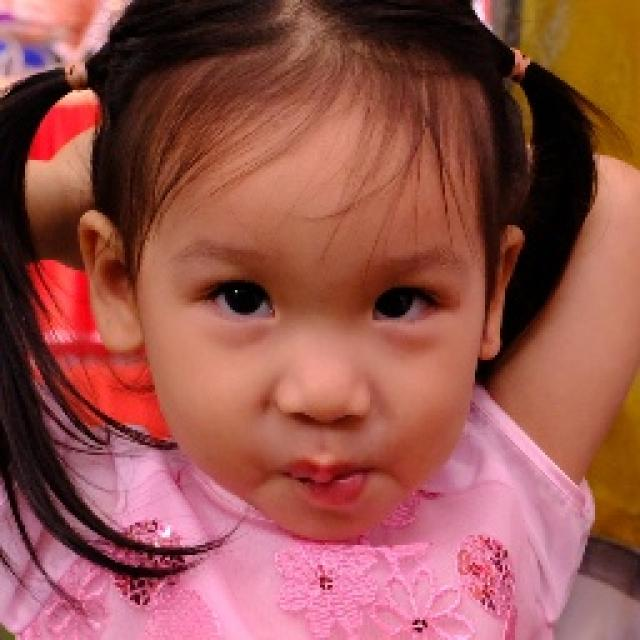earlobe: (103, 300, 146, 355), (475, 326, 504, 361)
eye: (201, 274, 277, 325), (368, 284, 440, 326)
nose: (274, 405, 368, 439)
wholeear: (79, 208, 146, 354), (475, 224, 525, 360)
